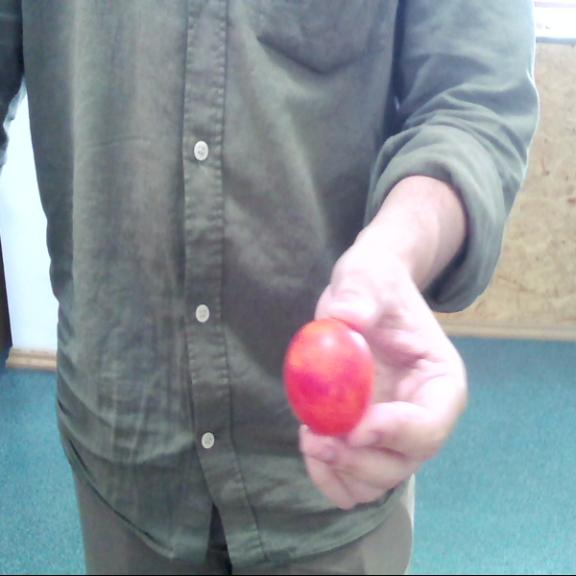ball: (283, 315, 379, 434)
